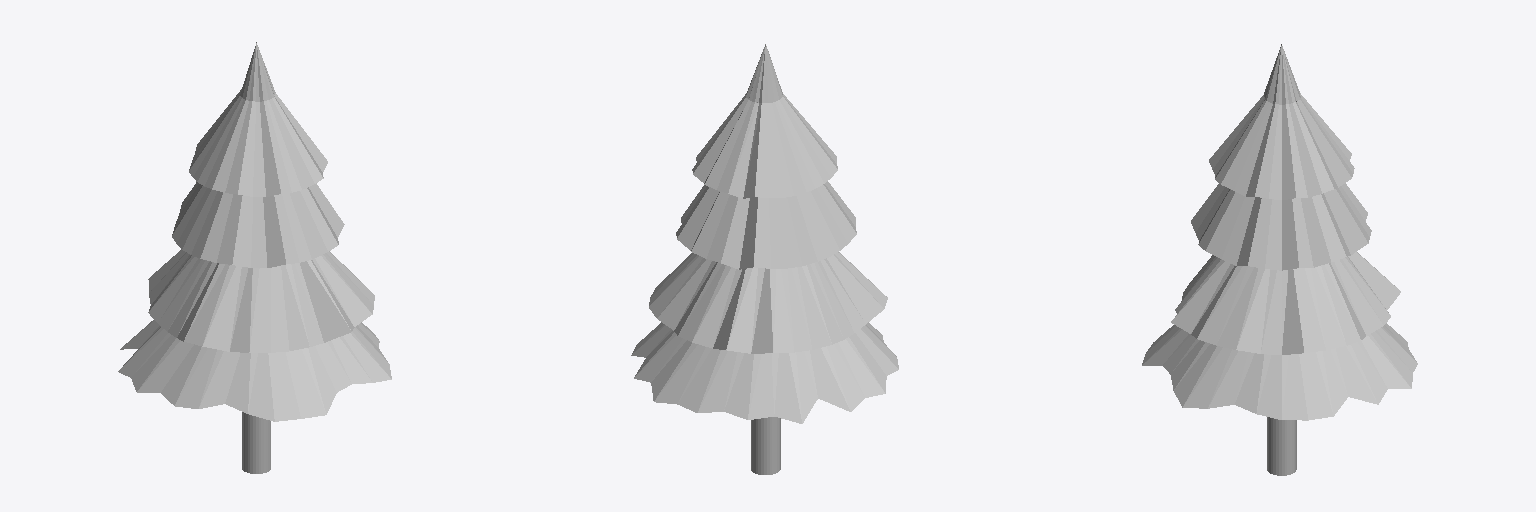
File: Tree2.obj
3 renders of one model, left to right at view 1: azimuth 30°, elevation 25°; view 2: azimuth 150°, elevation 25°; view 3: azimuth 270°, elevation 25°, orthographic.
Visible parts, largest first — view 1: Cylinder, Cylinder.001; view 2: Cylinder, Cylinder.001; view 3: Cylinder, Cylinder.001.
Boxes of the visible parts, x1=… form: Cylinder: x1=118, y1=42, x2=391, y2=421; Cylinder.001: x1=242, y1=412, x2=270, y2=473; Cylinder: x1=631, y1=44, x2=898, y2=423; Cylinder.001: x1=751, y1=417, x2=780, y2=474; Cylinder: x1=1142, y1=44, x2=1417, y2=420; Cylinder.001: x1=1267, y1=417, x2=1296, y2=475.
Size of the model in its own units: 2.26 by 3.87 by 2.28.